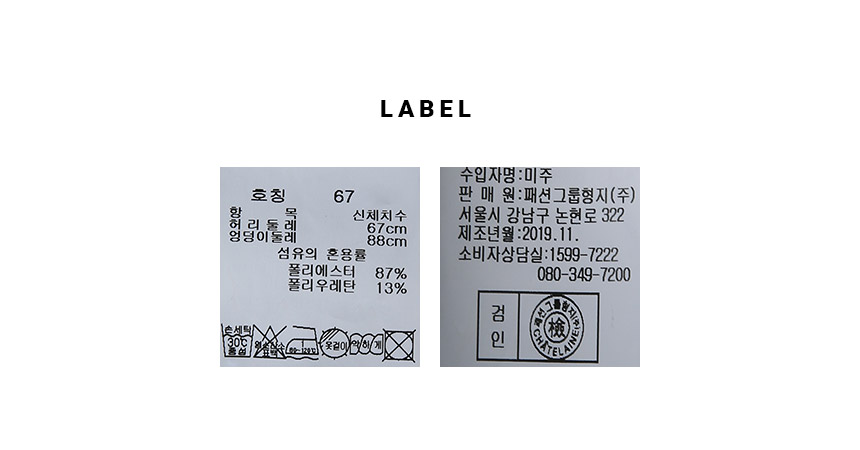KR_dry_clean_petroleum: (383, 328, 417, 363)
KR_gentle_wring: (349, 332, 384, 357)
KR_hand_wash_30_neutral: (221, 323, 253, 358)
KR_hang_dry_in_shade: (319, 328, 350, 361)
KR_iron_low_temp_with_cloth: (286, 325, 319, 360)
KR_no_bleach: (254, 323, 286, 360)
